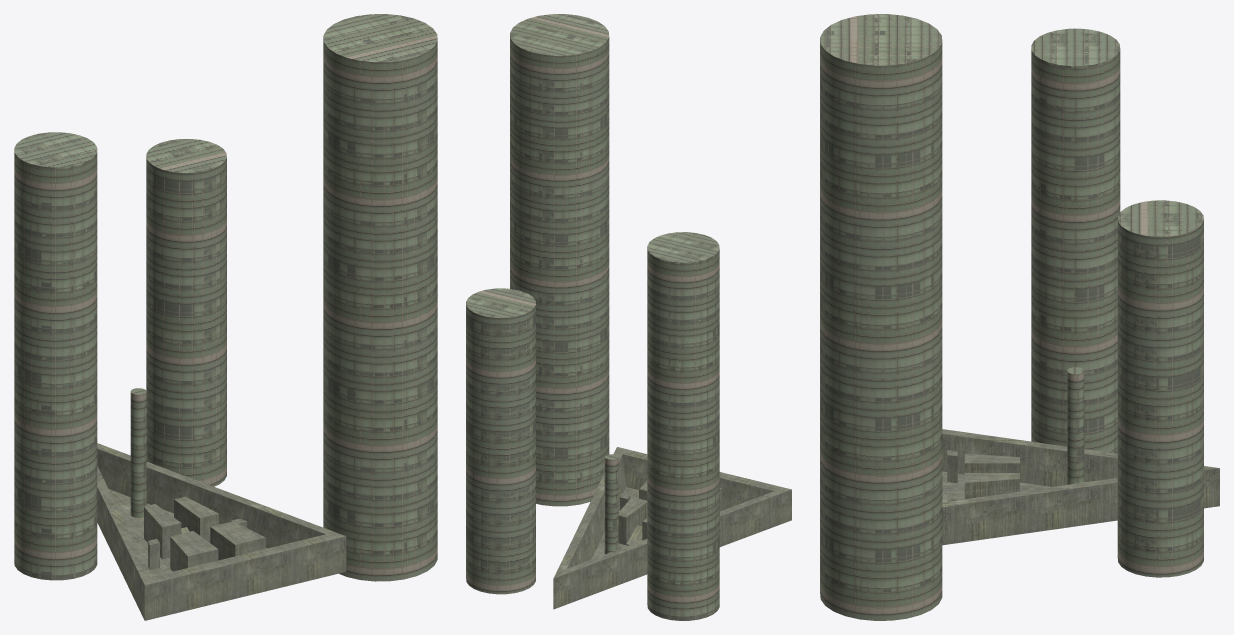
File: SM_NeoLD_08_Block_00.fbx
3 views of the same model, side by side, from view 1: azimuth 30°, elevation 25°; view 2: azimuth 150°, elevation 25°; view 3: azimuth 270°, elevation 25° (orthographic). The views are drawn at different scales.
Parts seen in each view (by area): view 1: SM_NeoLD_08_Block_00; view 2: SM_NeoLD_08_Block_00; view 3: SM_NeoLD_08_Block_00.
Boxes of the visible parts, x1=… form: SM_NeoLD_08_Block_00: x1=14, y1=14, x2=437, y2=620; SM_NeoLD_08_Block_00: x1=466, y1=14, x2=791, y2=620; SM_NeoLD_08_Block_00: x1=820, y1=14, x2=1219, y2=620.
Size of the model in its own units: 7649 by 12229 by 7756.
